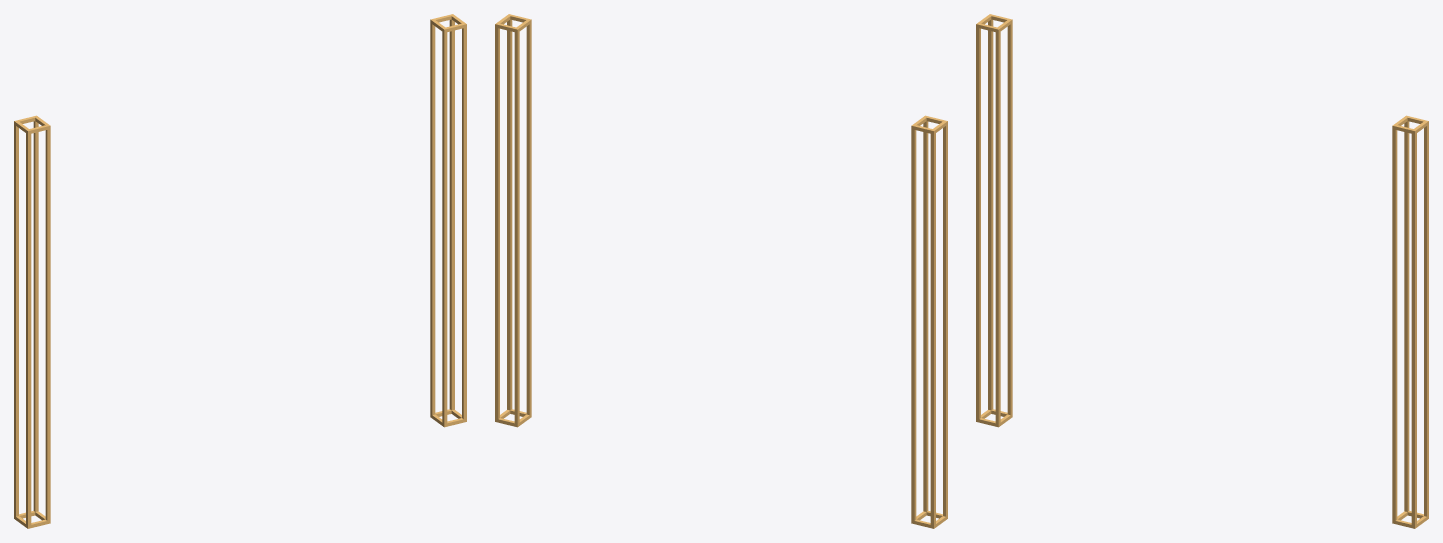
Rendered from skipoles.glb.
3 views of the same model, side by side, from view 1: azimuth 30°, elevation 25°; view 2: azimuth 150°, elevation 25°; view 3: azimuth 330°, elevation 25° (orthographic).
Visible parts, largest first — view 1: box_0, box_1; view 2: box_0, box_1; view 3: box_0, box_1.
Part boxes in pixels (<box>): box_0: <box>14,115,50,528</box>; box_1: <box>430,14,466,427</box>; box_0: <box>911,115,947,528</box>; box_1: <box>495,14,531,427</box>; box_0: <box>976,14,1012,427</box>; box_1: <box>1392,115,1428,528</box>.
Bounding box in the file's own units: 1.37 × 1.19 × 0.0751.
